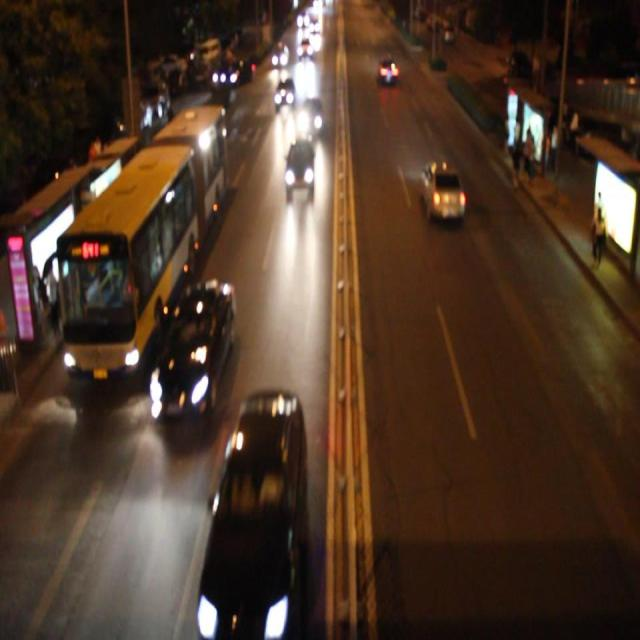car: (205, 390, 304, 623), (152, 285, 236, 426), (418, 159, 464, 223), (284, 139, 314, 193), (298, 97, 322, 139), (274, 76, 295, 110), (376, 56, 398, 88)
van: (54, 102, 219, 376)
